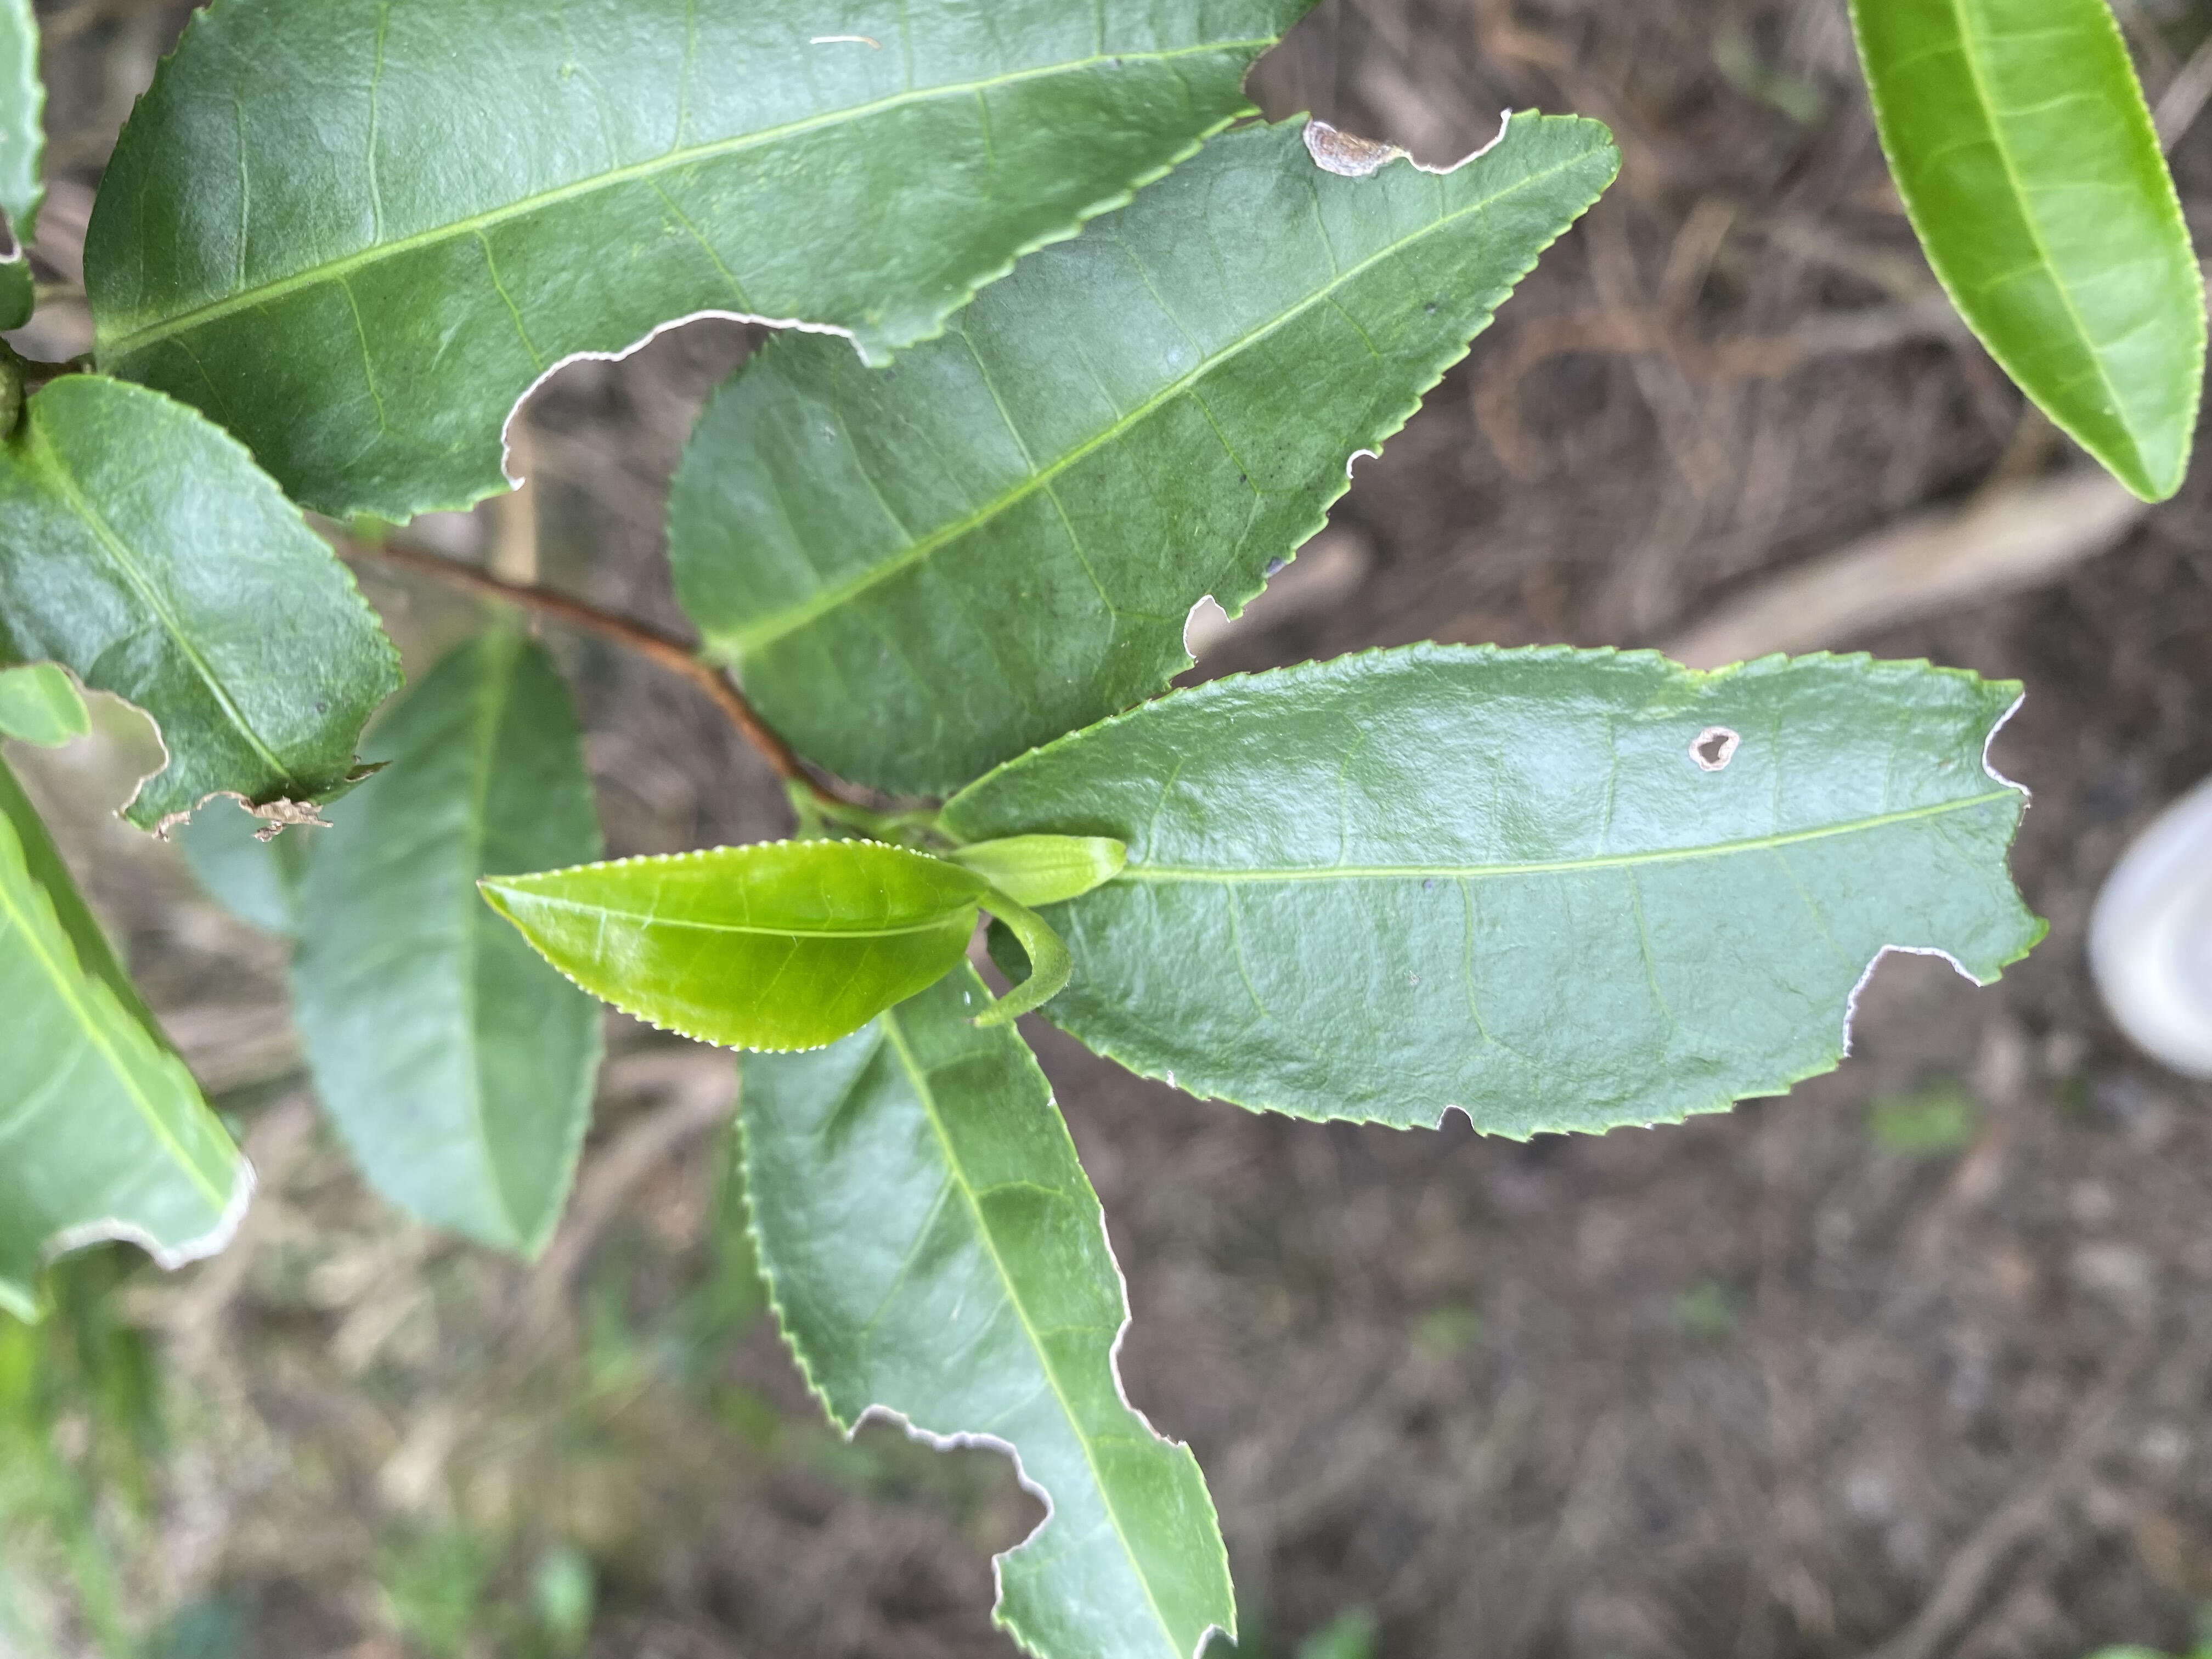chihuo_high: (662, 110, 1622, 800), (78, 9, 1315, 521), (937, 640, 2052, 1145), (735, 962, 1244, 1657), (3, 371, 409, 847)
healthy: (1846, 3, 2207, 504), (472, 836, 989, 1058)
